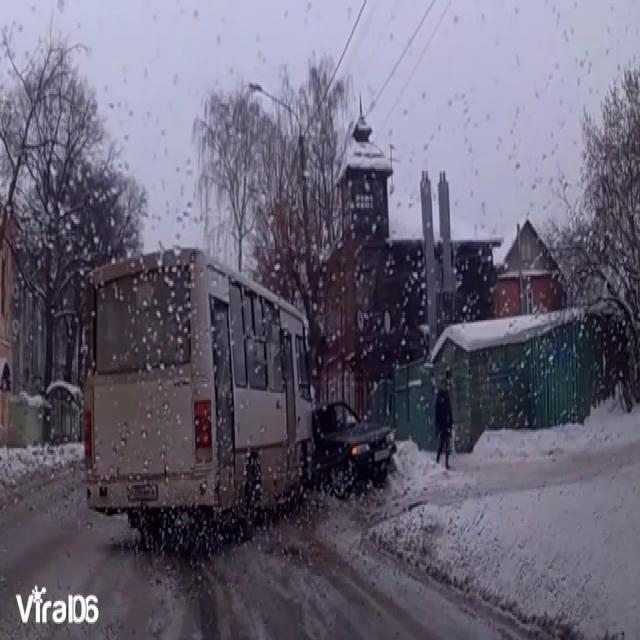multiple_accident: (254, 331, 407, 520)
